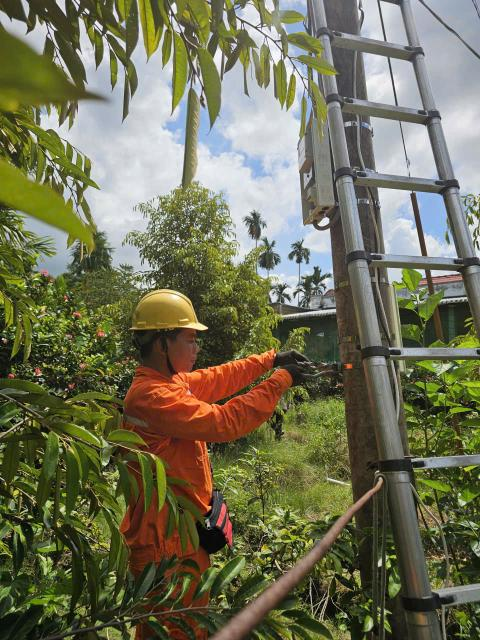gloves: (268, 360, 338, 390), (271, 344, 329, 368)
helmet: (114, 282, 216, 342)
